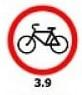road_sign: (6, 4, 80, 76)
